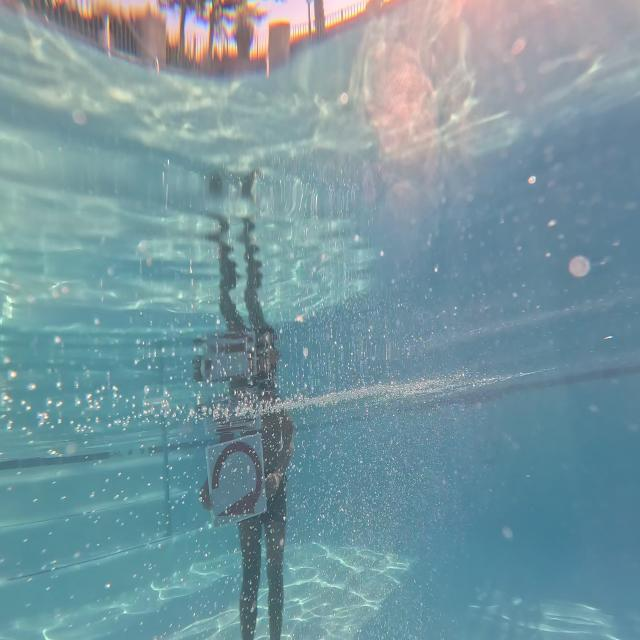red_side: (207, 426, 266, 530)
